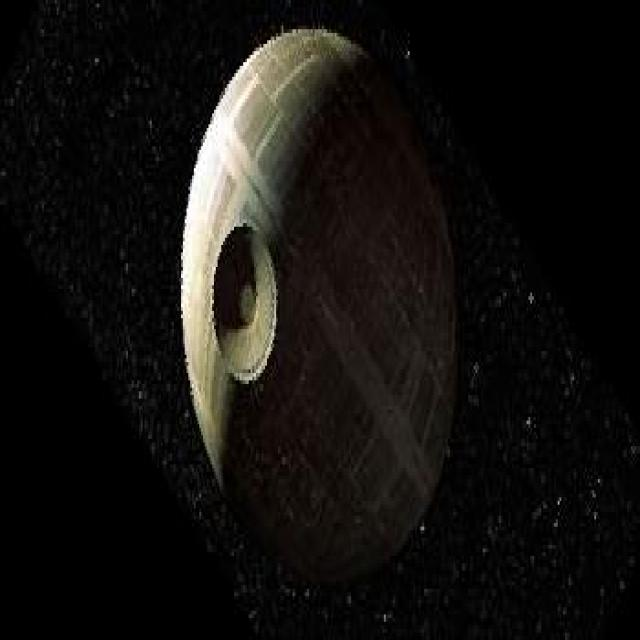Death Star: (175, 18, 462, 585)
